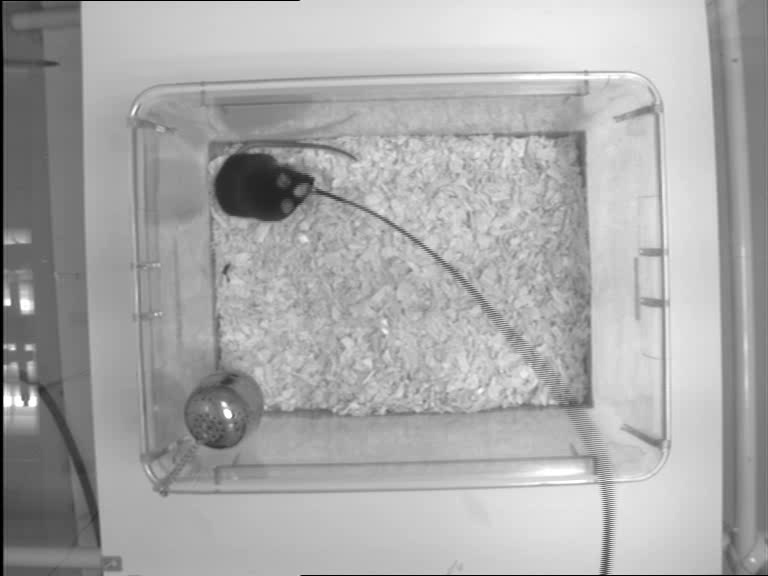mice: (214, 137, 356, 224)
